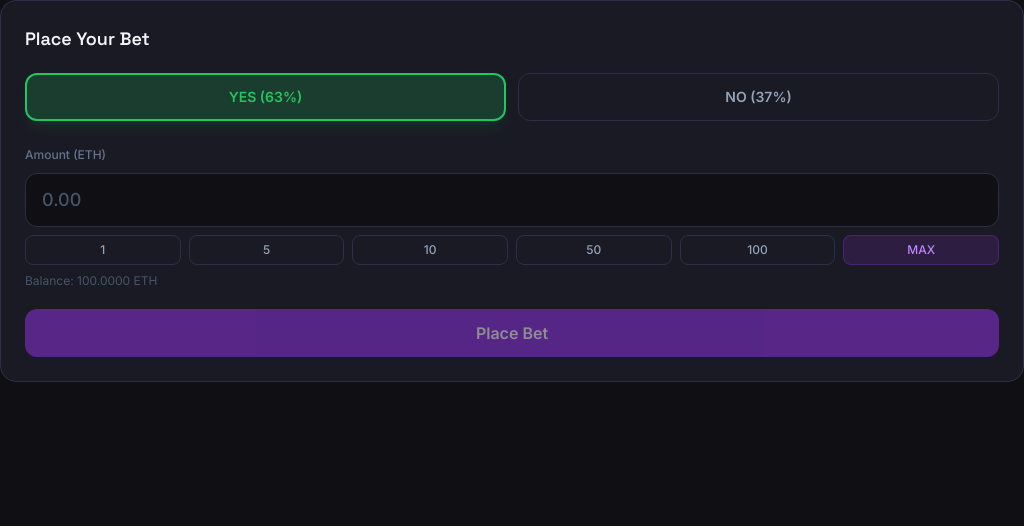
Test: BettingPanel › quick amount button sets input value
Click the button "5" at [267, 250], box [189,235,344,265]
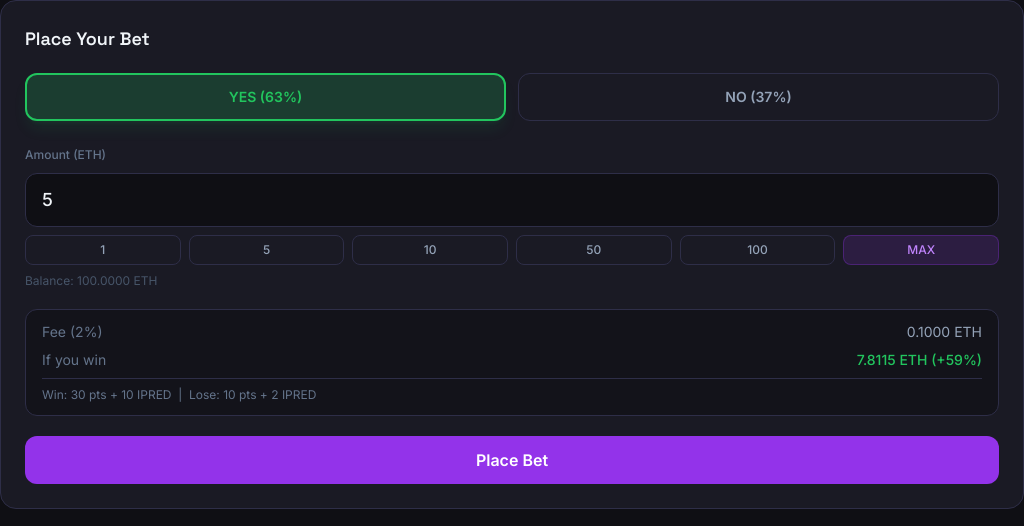
Expected: the number field with placeholder "0.00" holds "5", [25,173,999,227]
